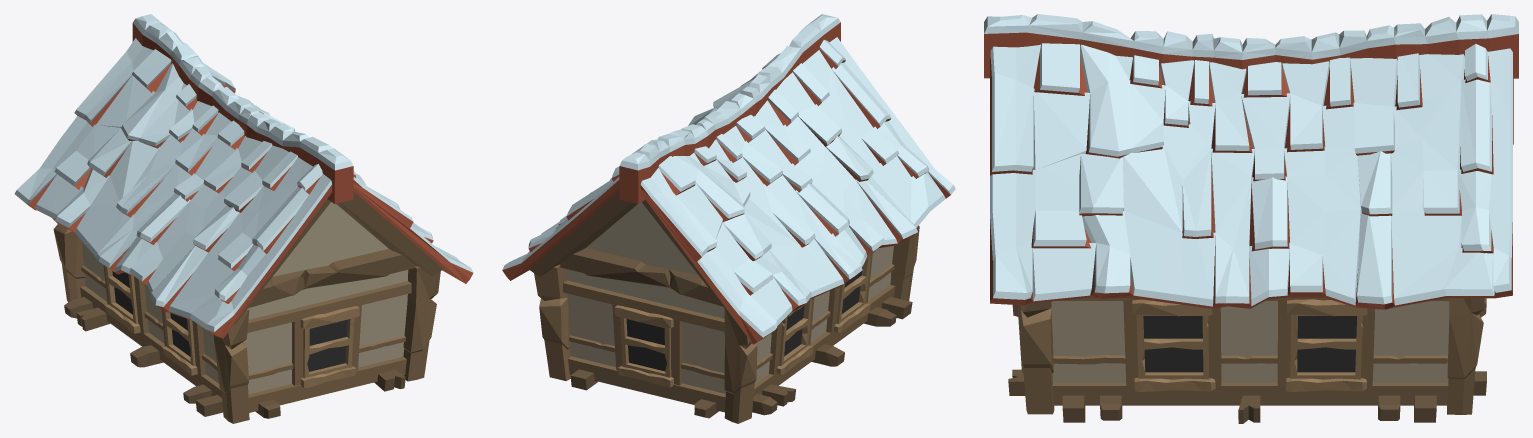
Rendered from SM_Bld_House_RoomTop_01_Snow.gltf.
3 renders of one model, left to right at view 1: azimuth 30°, elevation 25°; view 2: azimuth 150°, elevation 25°; view 3: azimuth 270°, elevation 25°, orthographic. The views are drawn at different scales.
Parts seen in each view (by area): view 1: SM_Bld_House_RoomTop_01_Snow; view 2: SM_Bld_House_RoomTop_01_Snow; view 3: SM_Bld_House_RoomTop_01_Snow.
Part boxes in pixels (box(x1,y1,x2,y2)): SM_Bld_House_RoomTop_01_Snow: box(14, 14, 473, 423); SM_Bld_House_RoomTop_01_Snow: box(502, 14, 955, 423); SM_Bld_House_RoomTop_01_Snow: box(984, 14, 1518, 423).
Bounding box in the file's own units: 5.43 × 4.74 × 6.86.
Materials: 1 (1 with a texture image).
